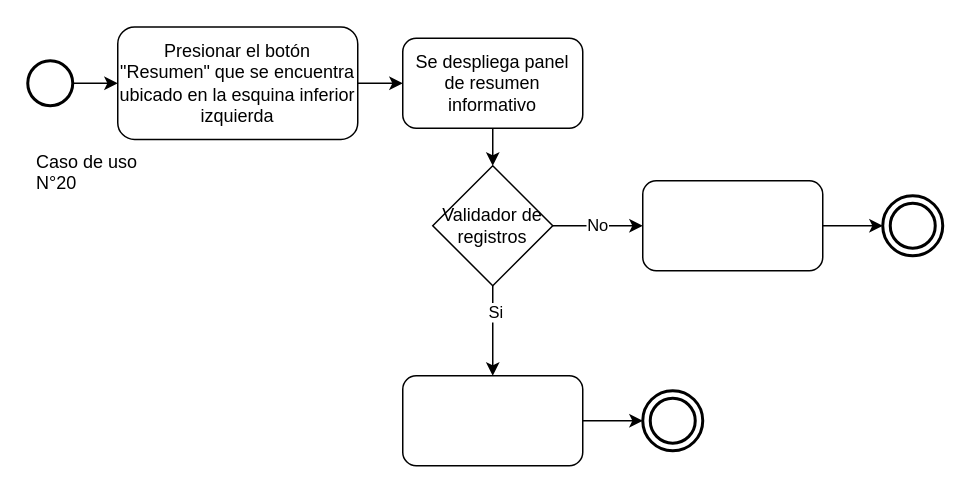
This 969x492 diagram has some shape labels left out. Here are the shapes that lost their labels. From the top down, the box of each, then its label:
(641, 179, 823, 271): Mensaje "No existen registros previos"
(401, 374, 583, 466): Mostrar resumen a traves de gráfico
